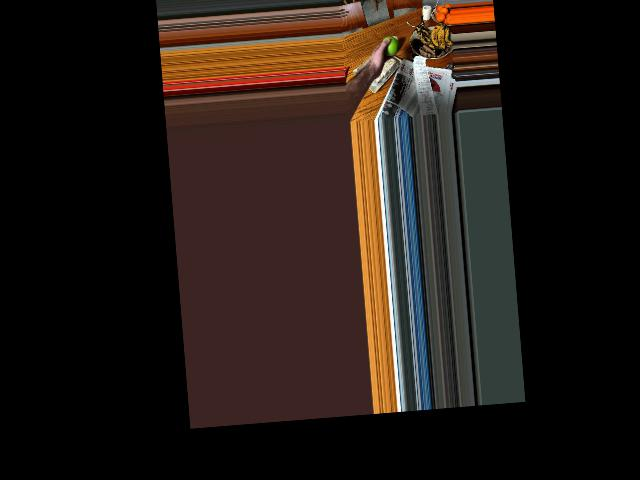apple: (378, 35, 400, 59)
